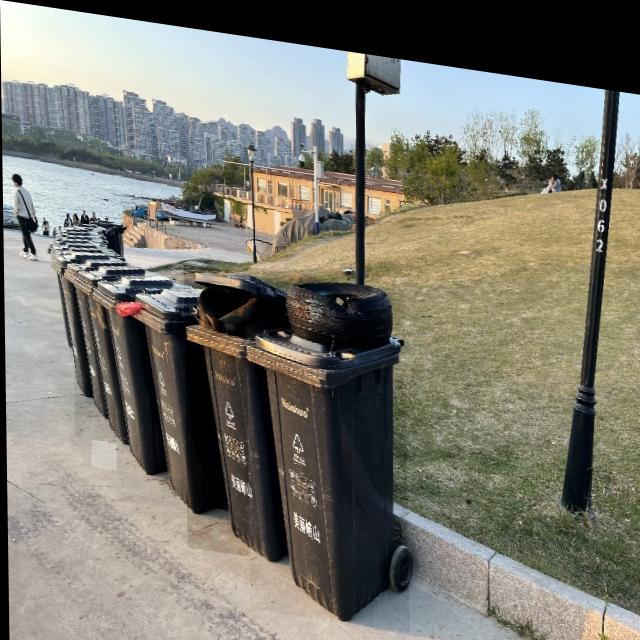garbage_bin: (88, 261, 173, 474), (72, 255, 146, 443)
overflow: (245, 259, 408, 620), (183, 259, 286, 554), (113, 272, 225, 510)
